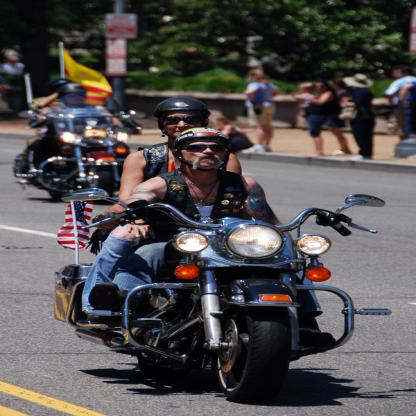Helmet: (172, 126, 231, 172), (150, 96, 214, 130), (59, 83, 89, 107), (53, 78, 73, 92)
